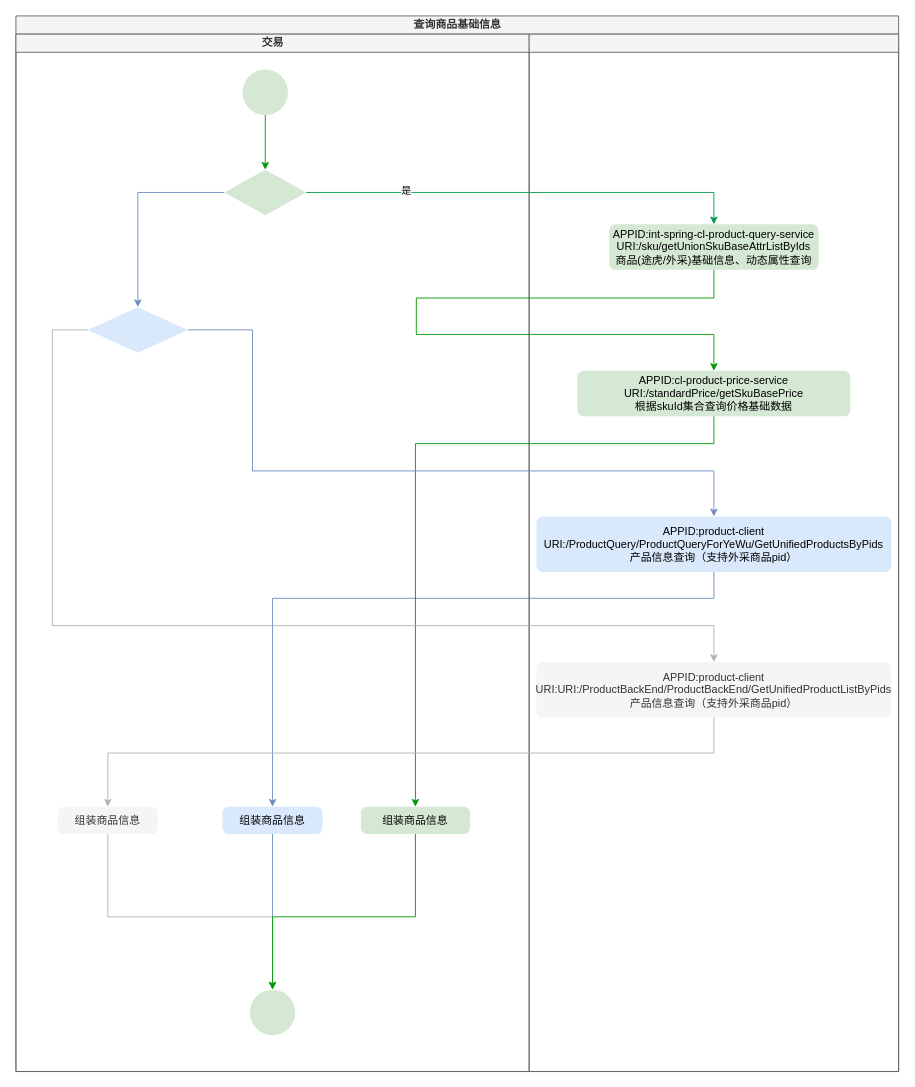
This 915x1087 diagram has some shape labels left out. Here are the shapes that lost their labels. From the top down, the box of each, then its label:
(242, 69, 288, 115): 开始
(224, 169, 306, 215): 是否使用 新商品服务
(87, 307, 187, 352): 轮胎&保养门店 校验开关
(528, 33, 899, 1072): 门店
(249, 989, 295, 1035): 结束
